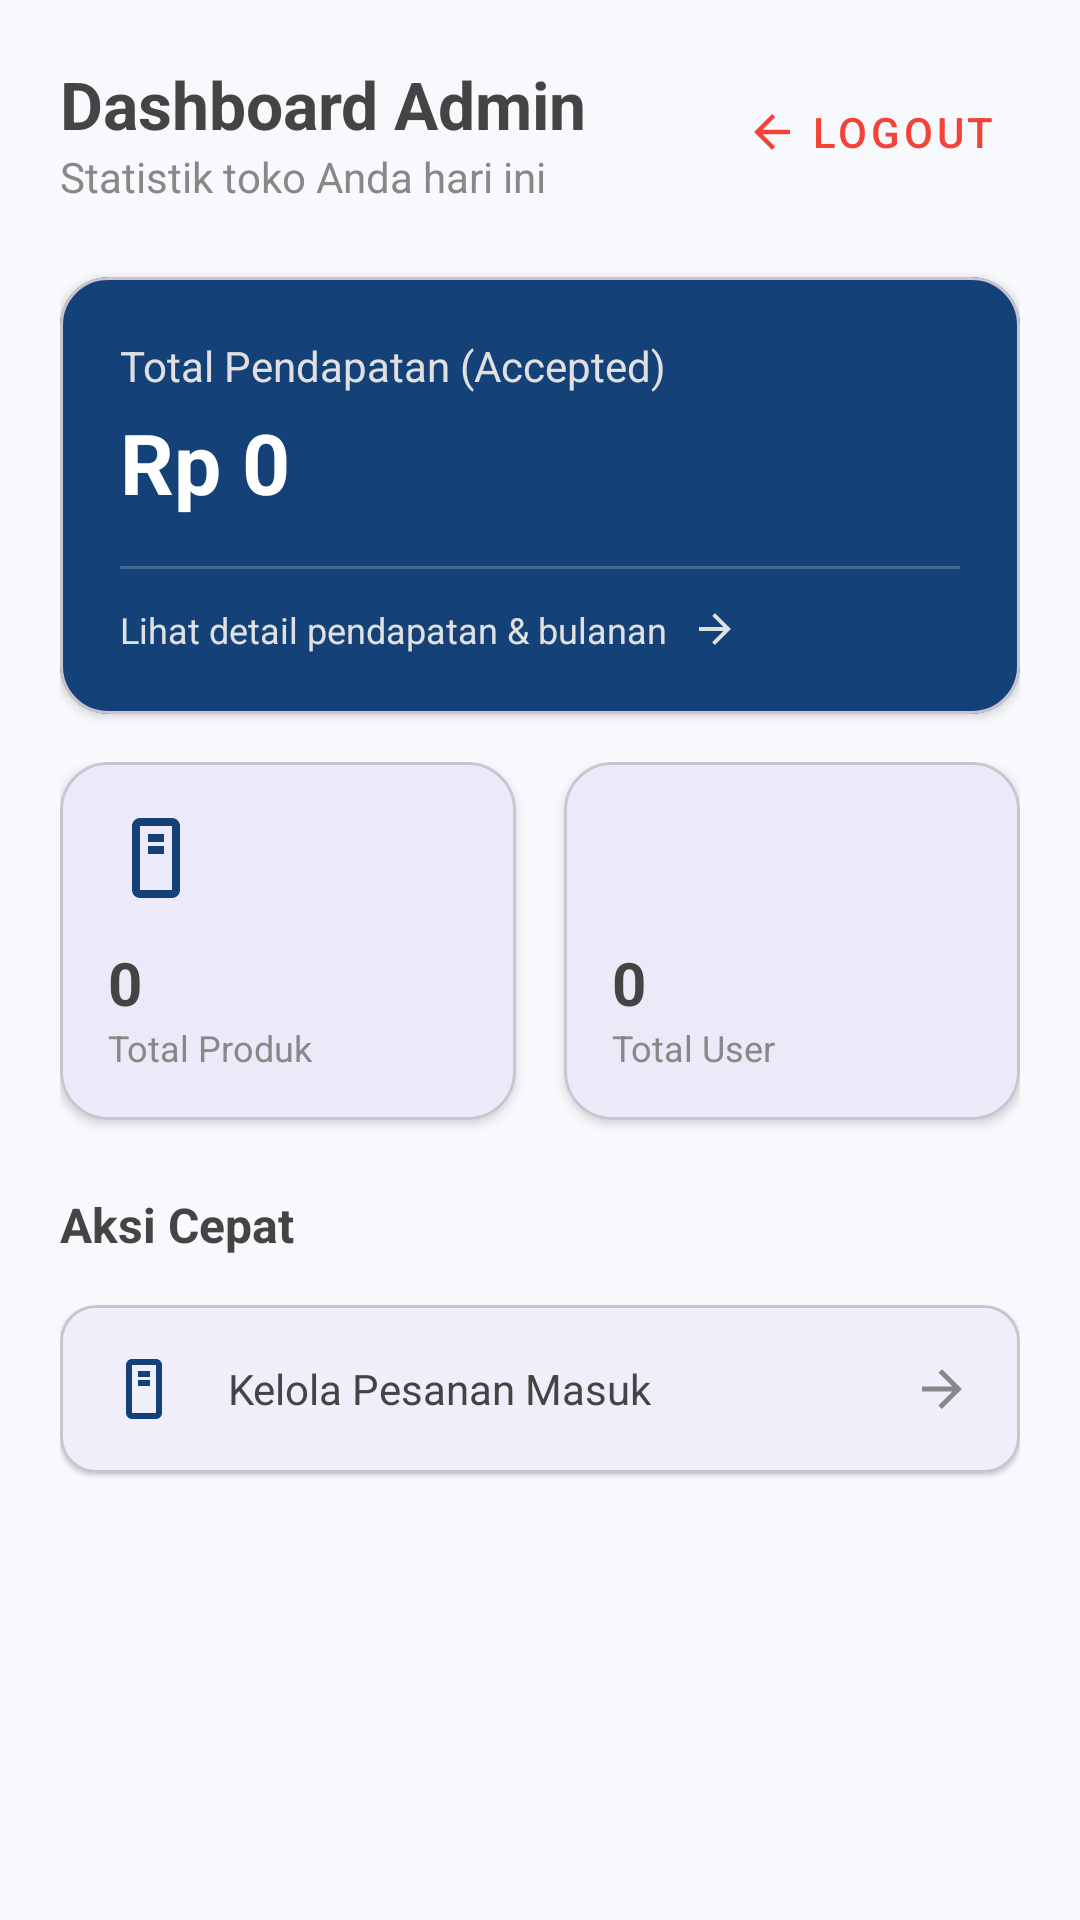

Where to tap for icons on this 1080 × 1920 app screen, as (x=x, y=y):
product: (x=156, y=858), (x=144, y=1389)
